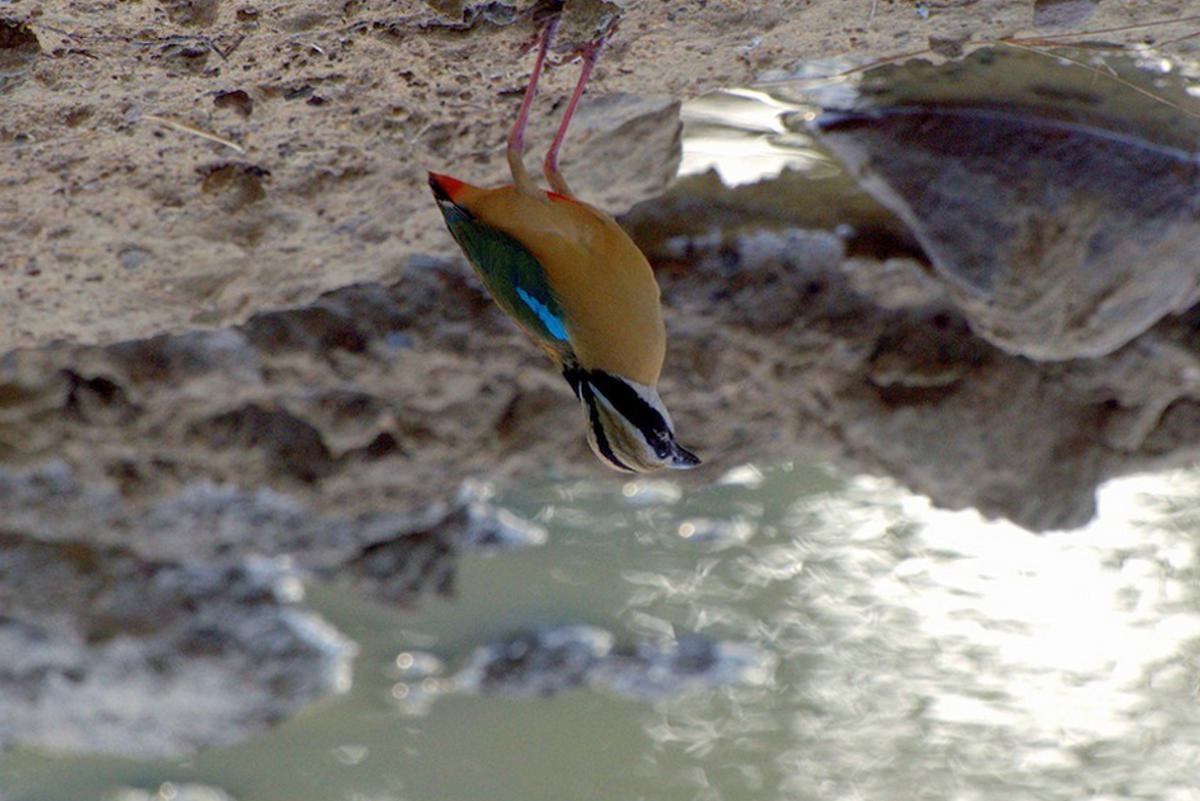pitta: (433, 104, 735, 492)
